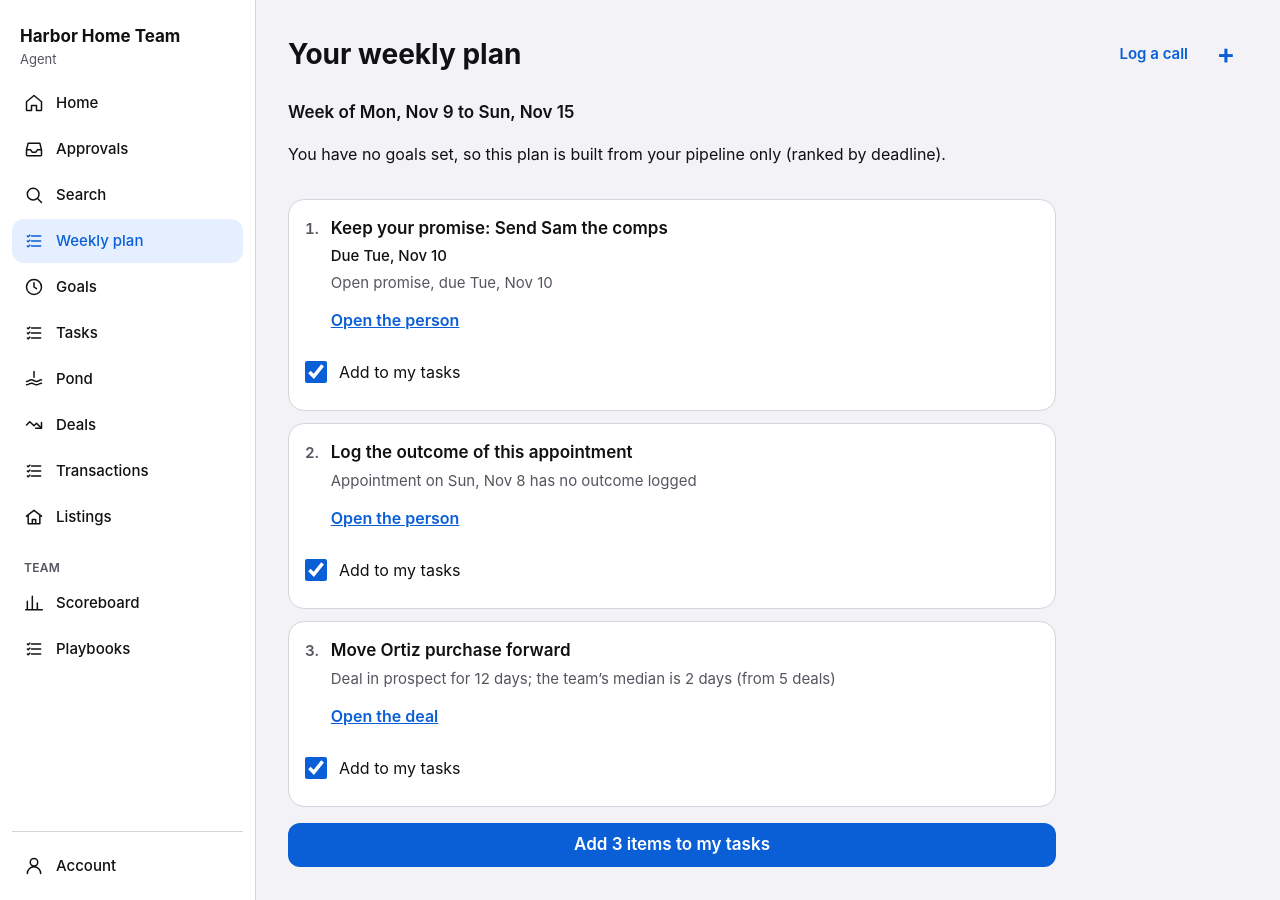
Scenario: Weekly plan page › R-PLAN-1: nothing is added until the tap; one tap adds the ticked items (untick one first) and the page then says which are on your tasks
Click the checkbox labelled "Add to my tasks" below "Log the outcome of this appointment" at (316, 570), box x1=305 y1=559 x2=327 y2=581
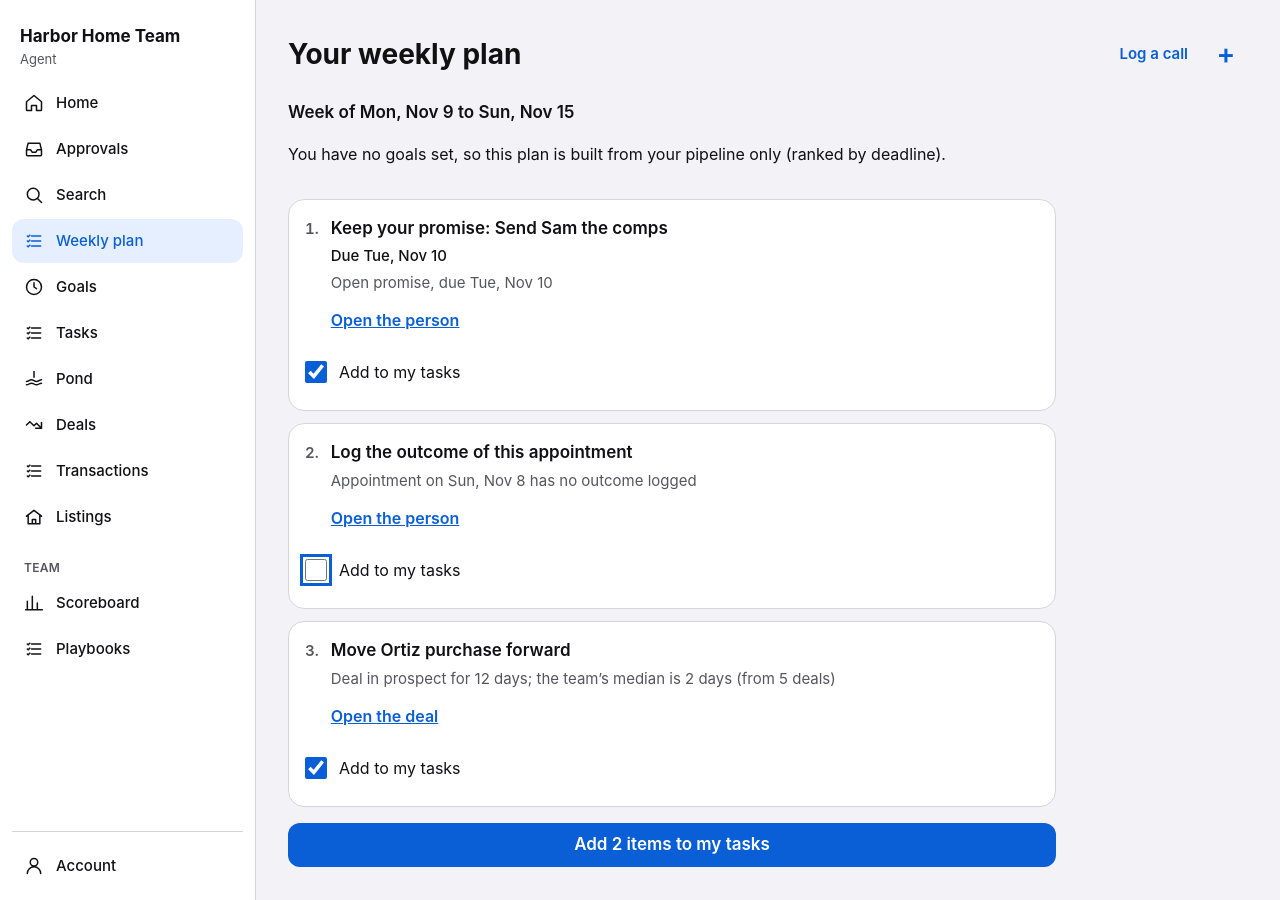
Now the button named "Add 3 items to my tasks" reads "Add 2 items to my tasks"
Click the button named "Add 3 items to my tasks" at (672, 845), box x1=288 y1=823 x2=1056 y2=867
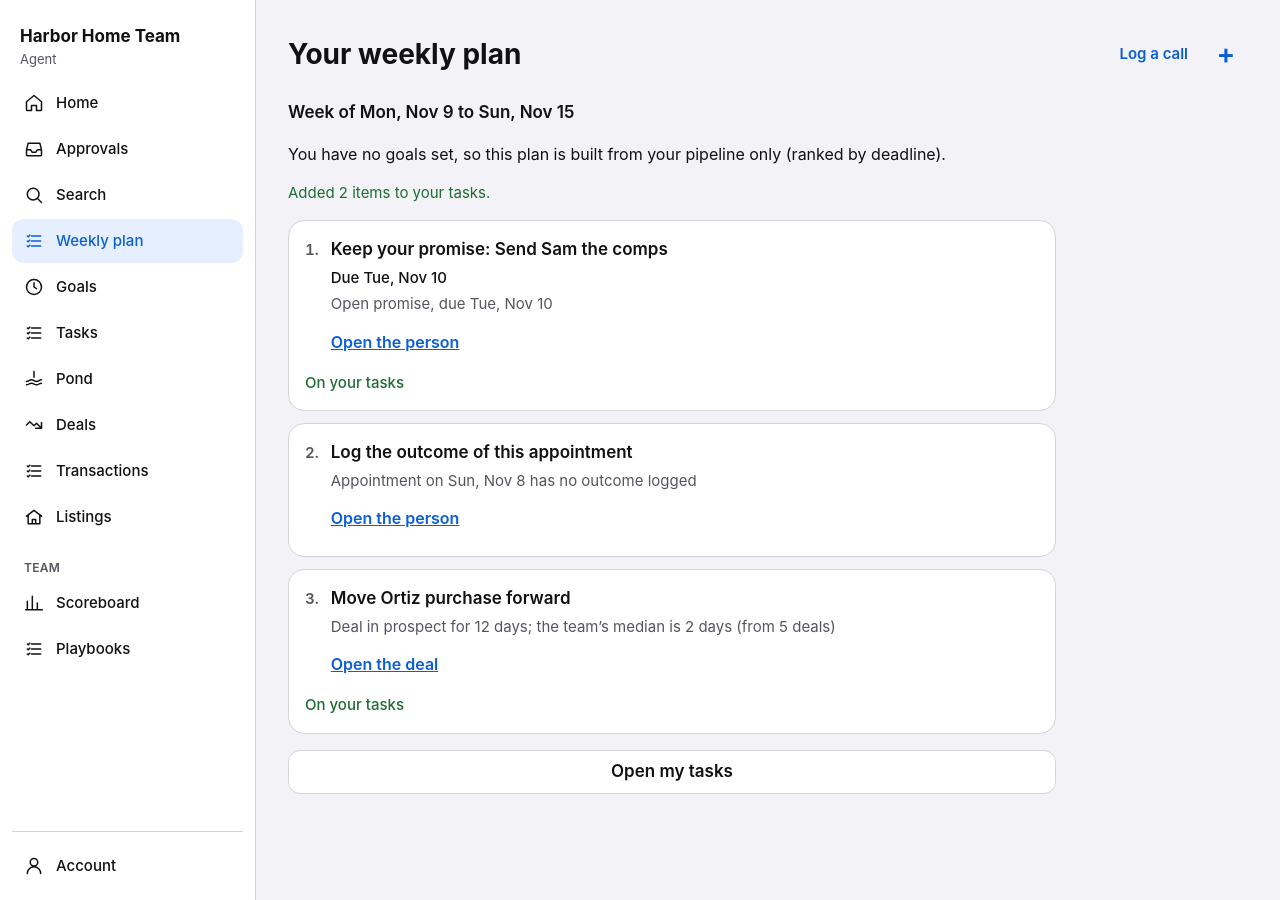
Now the text "On your tasks" is shown 2 times, box x1=305 y1=372 x2=404 y2=392; x1=305 y1=695 x2=404 y2=714
Now the checkbox is gone
